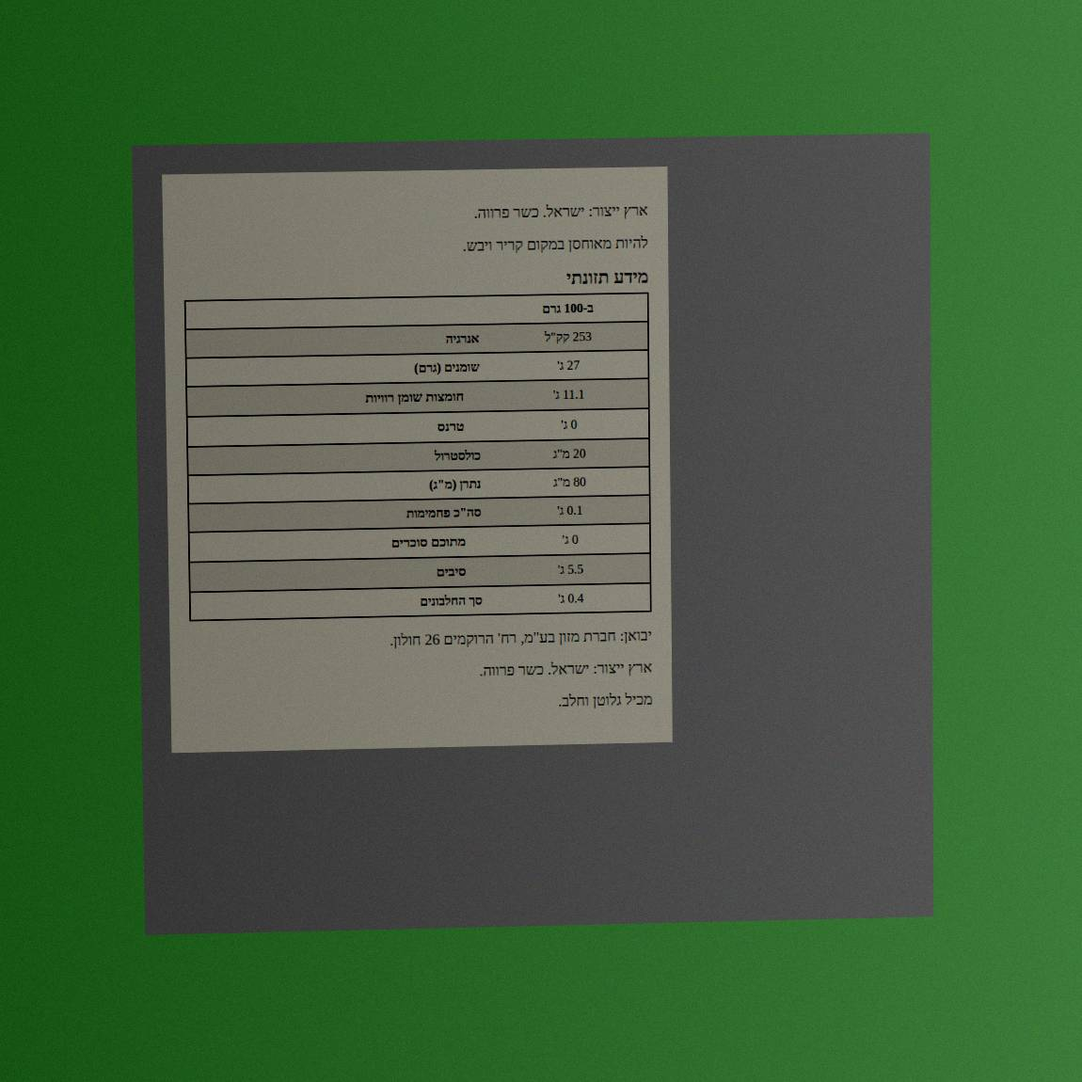carbs: (555, 502, 584, 519)
energy: (543, 328, 593, 346)
fat: (556, 357, 581, 374)
protein: (556, 590, 585, 607)
